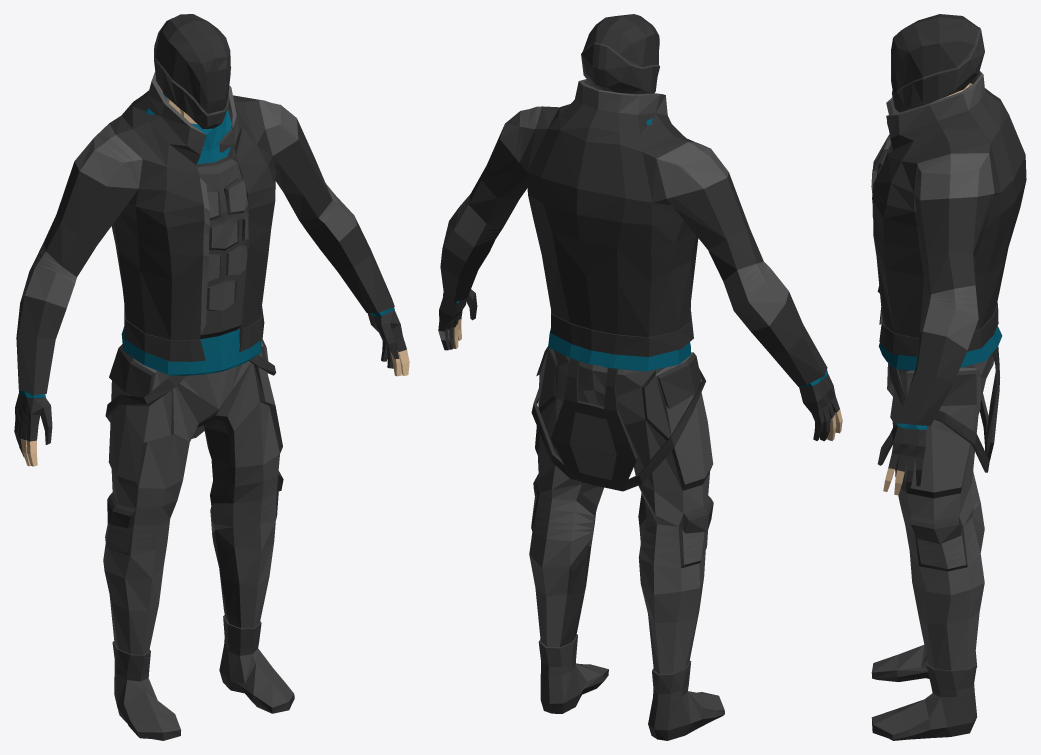
File: Omega.fbx
3 renders of one model, left to right at view 1: azimuth 30°, elevation 25°; view 2: azimuth 150°, elevation 25°; view 3: azimuth 270°, elevation 25°, orthographic. The views are drawn at different scales.
Parts seen in each view (by area): view 1: pCube9; view 2: pCube9; view 3: pCube9.
Boxes of the visible parts, <box> form: pCube9: <box>14,14,409,740</box>; pCube9: <box>438,14,842,740</box>; pCube9: <box>871,14,1026,740</box>.
Size of the model in its own units: 2.53 by 4.34 by 0.8896.
